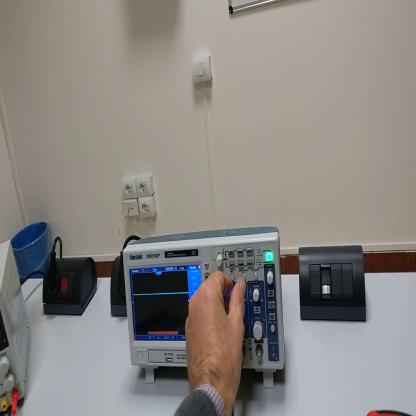hand: (185, 268, 247, 403)
oscilloscope: (123, 227, 286, 390)
pliers: (367, 409, 413, 416)
power supply: (2, 234, 33, 415)
socket: (43, 259, 99, 317), (110, 260, 128, 320)
